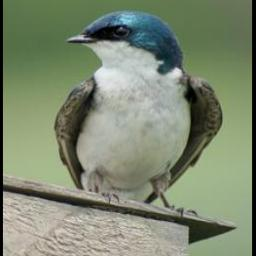Swallow: (52, 8, 223, 219)
